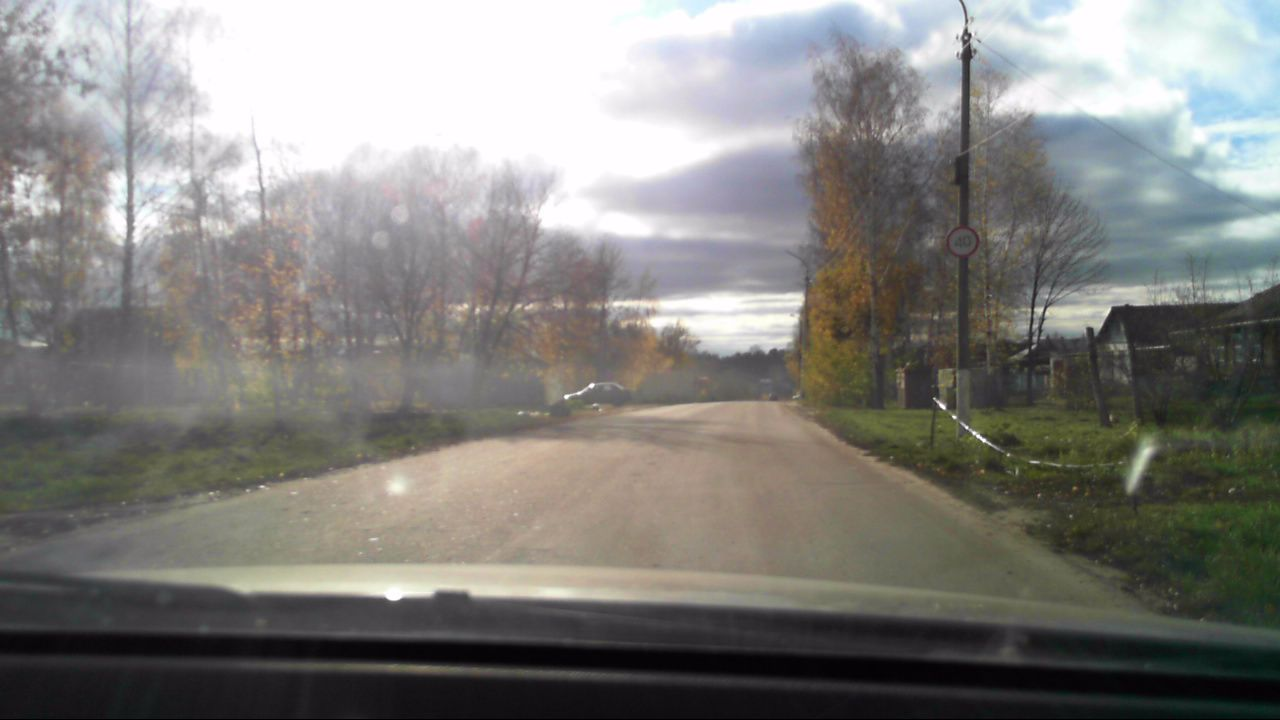speed_warning_40: (947, 226, 978, 258)
